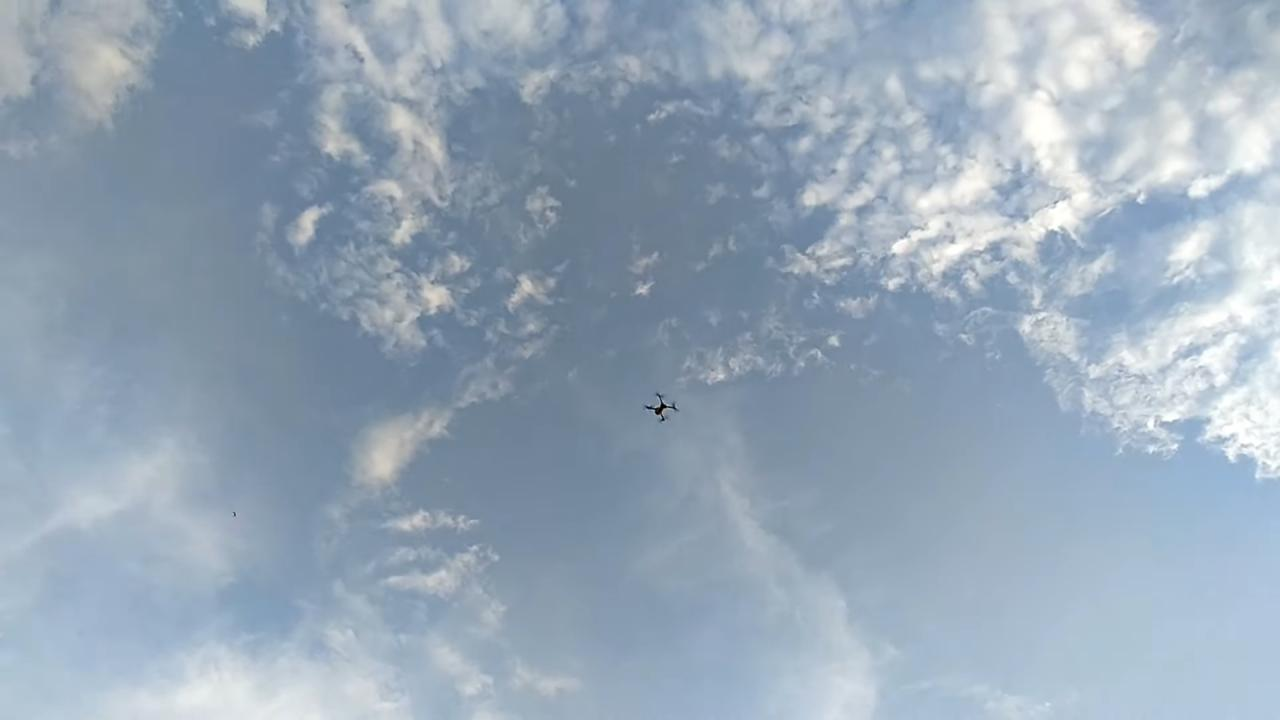Drone: (630, 382, 694, 434)
